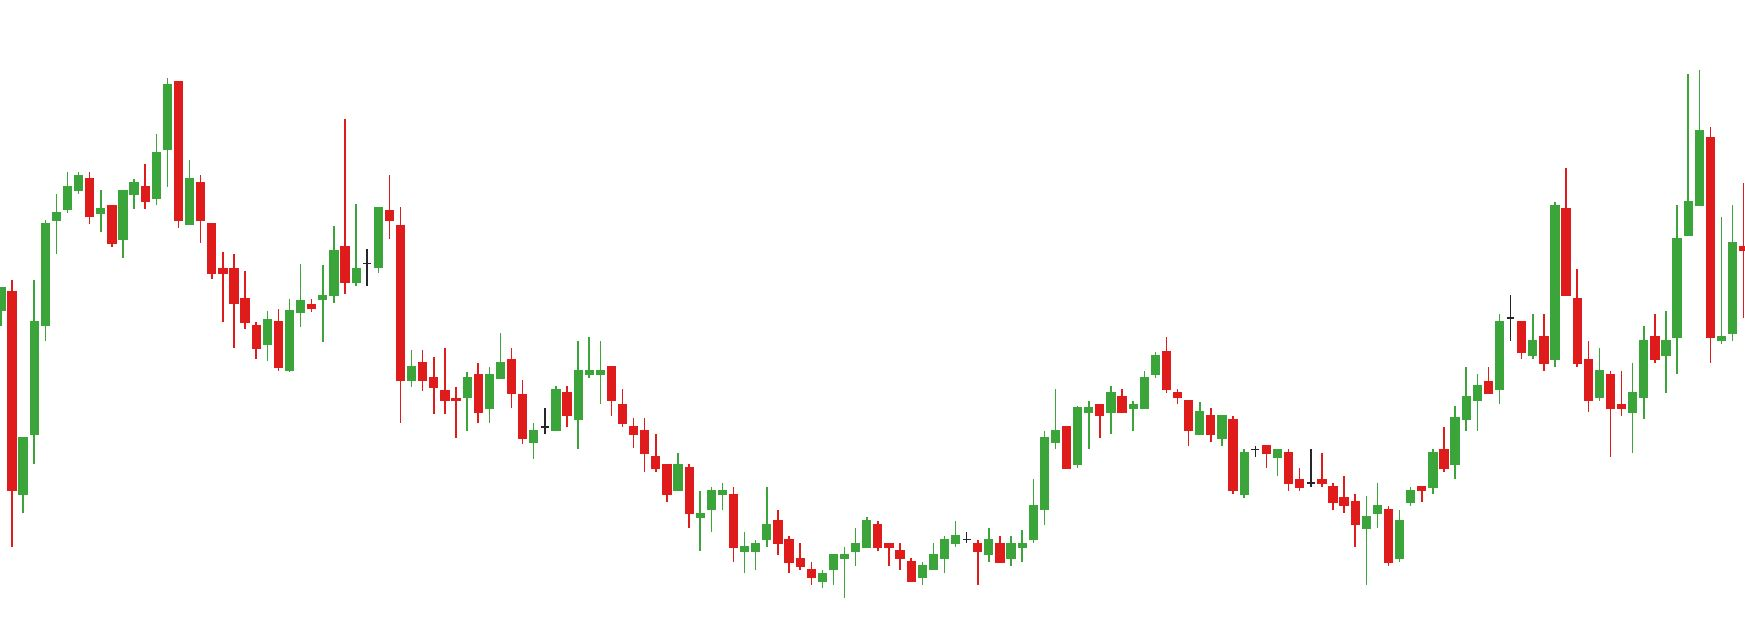sell: (1557, 77, 1697, 305)
